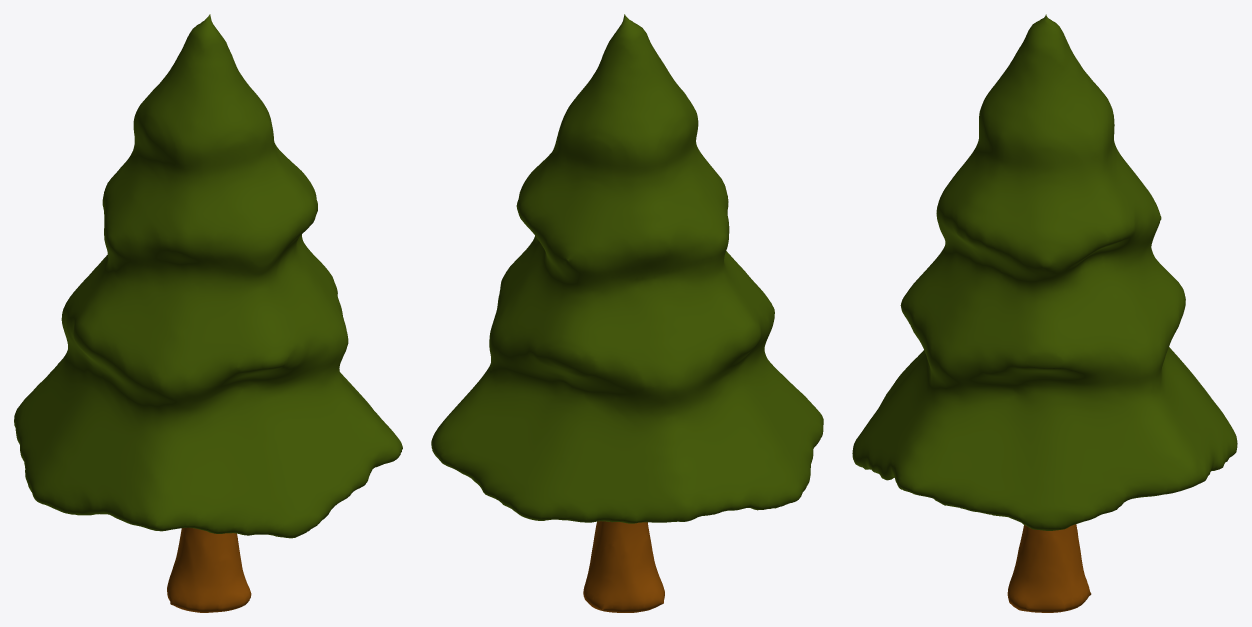
Rendered from Tree1.glb.
The picture shows the model from 3 angles, left to right: view 1: azimuth 30°, elevation 25°; view 2: azimuth 150°, elevation 25°; view 3: azimuth 270°, elevation 25°; orthographic projection.
Parts seen in each view (by area): view 1: Tree_Spruce_small_02.001, Tree_Spruce_small_02; view 2: Tree_Spruce_small_02.001, Tree_Spruce_small_02; view 3: Tree_Spruce_small_02.001, Tree_Spruce_small_02.
Boxes of the visible parts, left/top/right/bottom form: Tree_Spruce_small_02.001: left=14, top=14, right=402, bottom=538; Tree_Spruce_small_02: left=167, top=527, right=251, bottom=612; Tree_Spruce_small_02.001: left=431, top=14, right=823, bottom=523; Tree_Spruce_small_02: left=583, top=521, right=664, bottom=612; Tree_Spruce_small_02.001: left=852, top=14, right=1237, bottom=530; Tree_Spruce_small_02: left=1007, top=524, right=1091, bottom=612.
Bounding box in the file's own units: 10.18 × 17.25 × 10.23.
